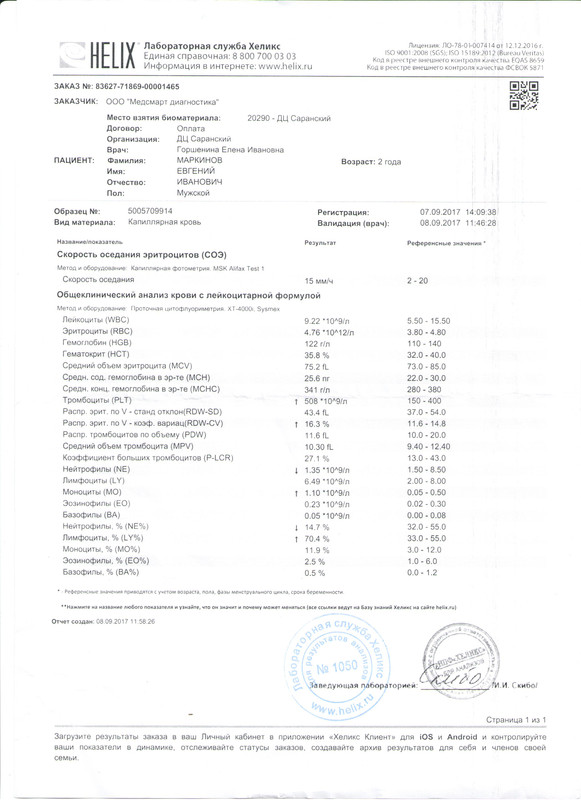column: (61, 314, 233, 576), (303, 314, 355, 576), (406, 314, 451, 576), (406, 238, 482, 247), (61, 275, 135, 284), (56, 238, 123, 247), (304, 238, 336, 247), (304, 275, 334, 284), (406, 275, 428, 284)
